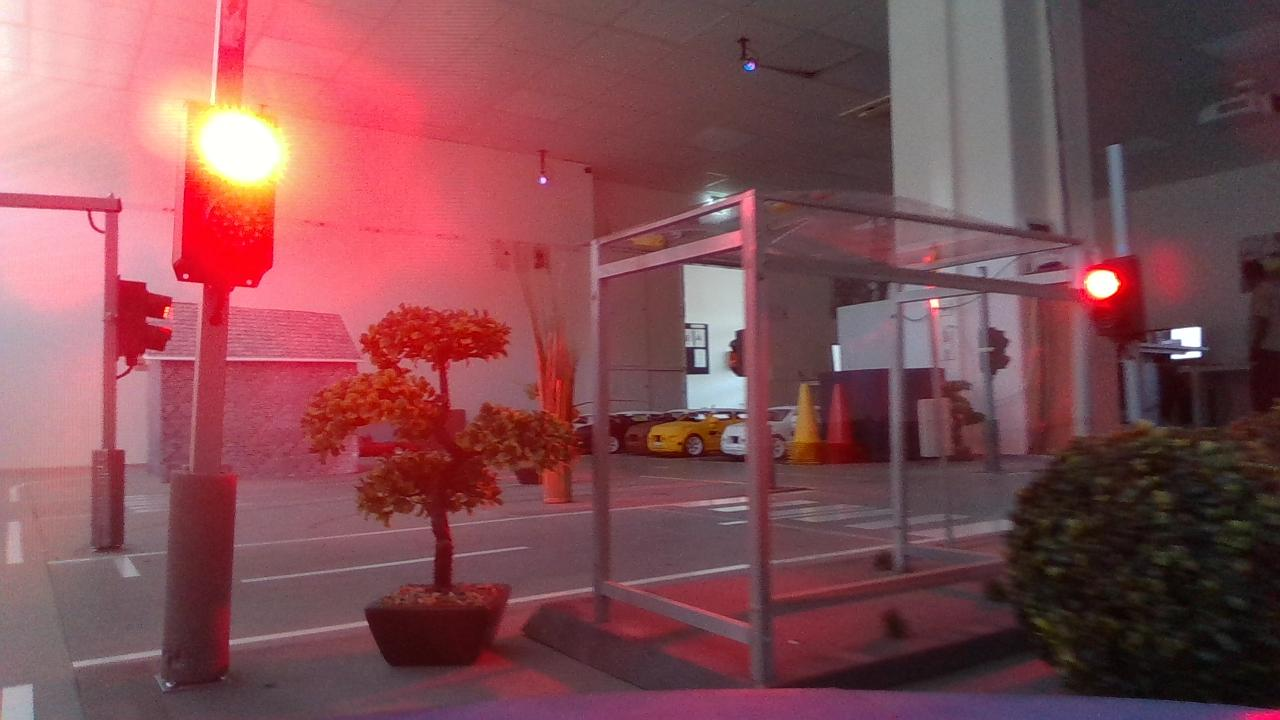traffic_light_red: (149, 88, 306, 311)
